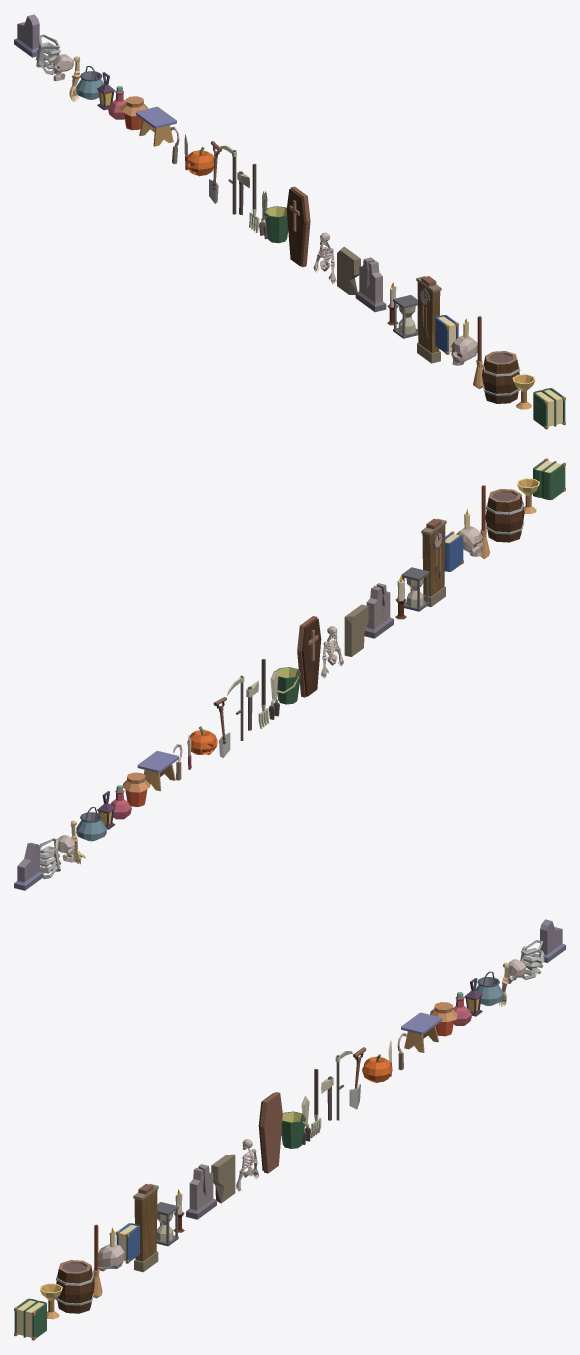
The model's file is GarbageCommon_31items.fbx.
3 renders of one model, top to bottom at view 1: azimuth 30°, elevation 25°; view 2: azimuth 150°, elevation 25°; view 3: azimuth 330°, elevation 25°, orthographic.
Parts seen in each view (by area): view 1: G23, G27, G16, G25, G31, G3, G19, G22, G18, G14, G24, G29 (+5 smaller); view 2: G27, G23, G16, G25, G31, G19, G3, G18, G22, G14, G5, G6 (+5 smaller); view 3: G27, G23, G16, G25, G31, G3, G19, G14, G18, G22, G24, G29 (+5 smaller).
Boxes of the visible parts, left/top/right/bottom form: G23: left=416, top=276, right=441, bottom=363; G27: left=482, top=351, right=520, bottom=403; G16: left=286, top=186, right=310, bottom=267; G25: left=355, top=257, right=386, bottom=312; G31: left=533, top=388, right=565, bottom=429; G3: left=136, top=106, right=176, bottom=146; G19: left=337, top=246, right=360, bottom=294; G22: left=393, top=295, right=418, bottom=338; G18: left=14, top=14, right=39, bottom=57; G14: left=262, top=206, right=288, bottom=243; G24: left=435, top=315, right=458, bottom=354; G29: left=451, top=318, right=477, bottom=365; G27: left=485, top=489, right=524, bottom=542; G23: left=421, top=518, right=446, bottom=606; G16: left=297, top=616, right=321, bottom=697; G25: left=364, top=583, right=393, bottom=638; G31: left=533, top=458, right=565, bottom=500; G19: left=344, top=604, right=368, bottom=656; G3: left=137, top=751, right=178, bottom=791; G18: left=14, top=842, right=43, bottom=890; G22: left=401, top=567, right=429, bottom=611; G14: left=275, top=667, right=301, bottom=704; G5: left=76, top=807, right=106, bottom=841; G6: left=122, top=772, right=150, bottom=806; G27: left=56, top=1260, right=94, bottom=1313; G23: left=133, top=1184, right=158, bottom=1272; G16: left=258, top=1092, right=282, bottom=1173; G25: left=186, top=1164, right=216, bottom=1219; G31: left=14, top=1298, right=46, bottom=1340; G3: left=401, top=1012, right=442, bottom=1052; G19: left=211, top=1154, right=235, bottom=1203; G14: left=281, top=1111, right=308, bottom=1148; G18: left=538, top=919, right=565, bottom=962; G22: left=156, top=1202, right=178, bottom=1246; G24: left=116, top=1223, right=139, bottom=1263; G29: left=98, top=1227, right=124, bottom=1271.
Size of what is drawn, in the model's own units: 8.12 by 17.98 by 216.
